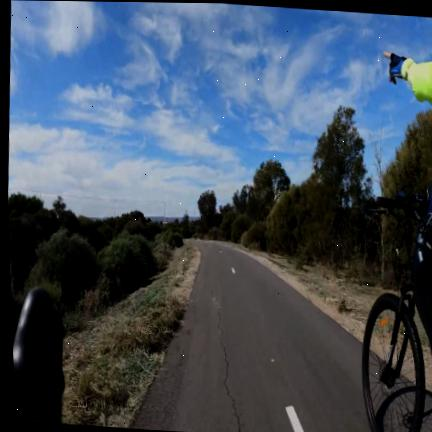Bike_Lane: (134, 241, 371, 432)
